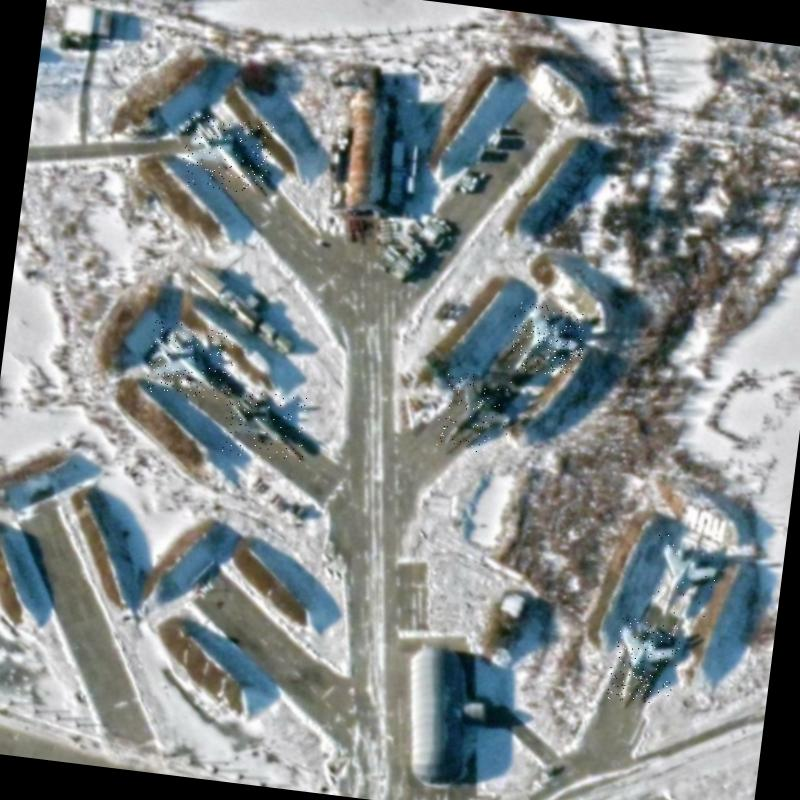A1: (179, 111, 275, 195), (145, 319, 236, 402), (220, 387, 312, 463), (606, 616, 682, 707), (646, 534, 722, 624), (435, 370, 514, 455), (507, 300, 588, 378)
